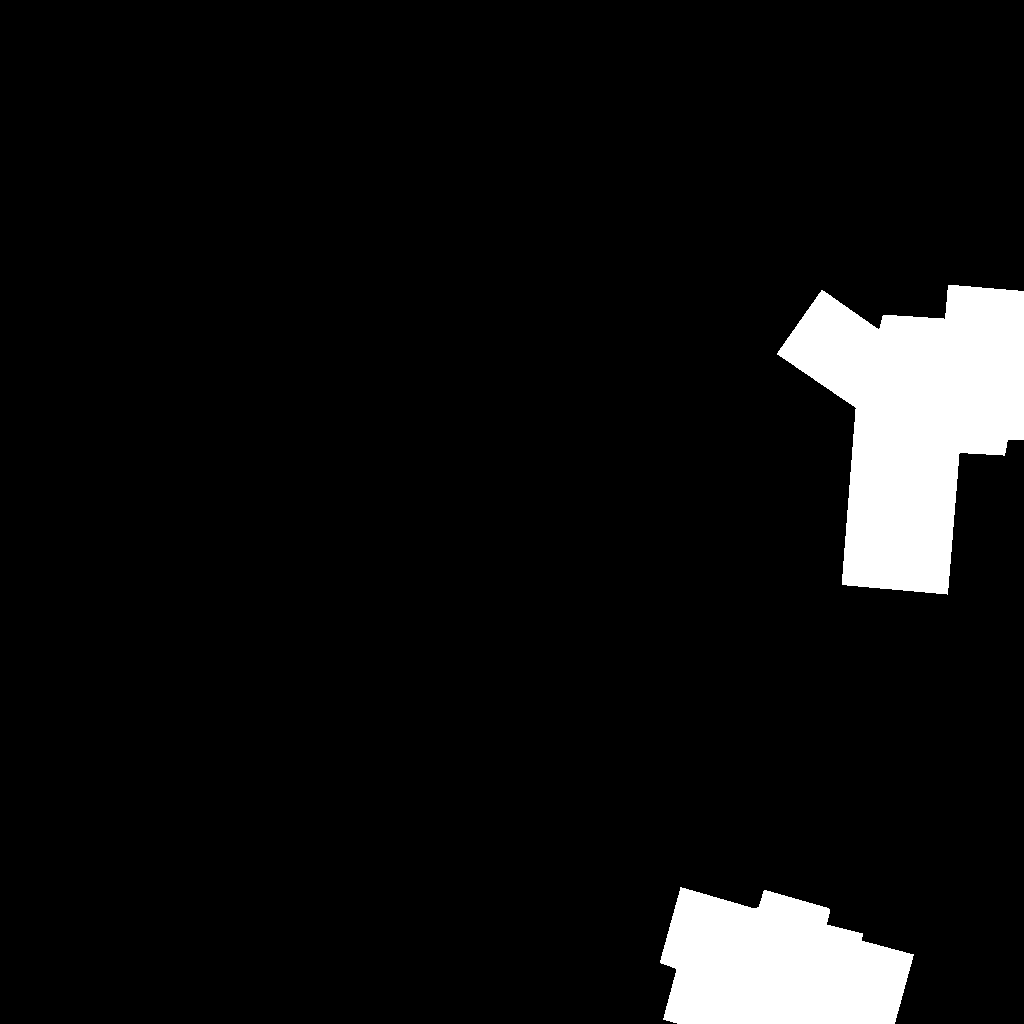building: (777, 285, 1024, 595), (660, 887, 915, 1024)
